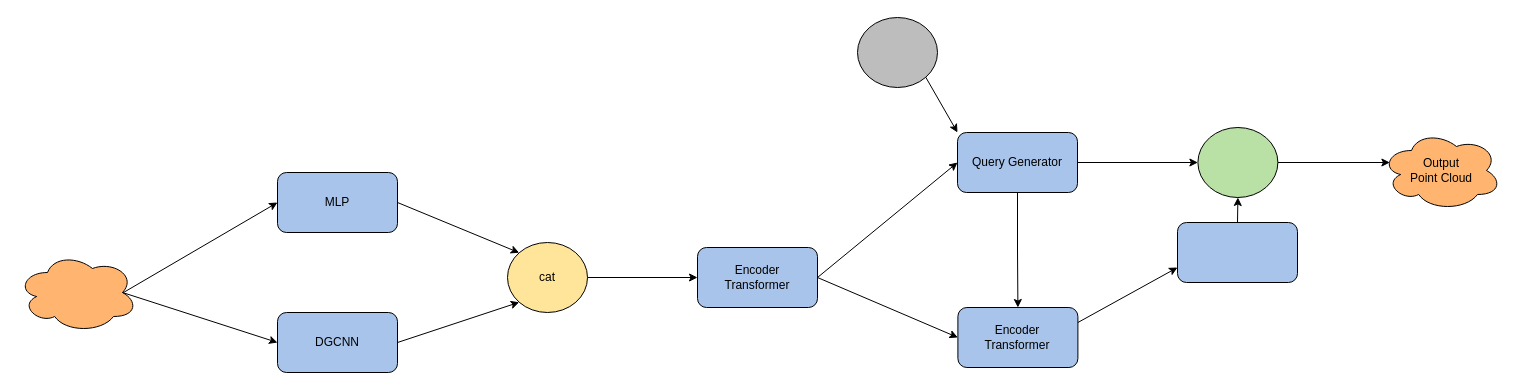
Image size: 1519x390. Some labels were removed from this diagram. Each missing label, with the box of its shape:
Folding Net: (1176, 222, 1298, 282)
Imput Point Cloud: (16, 252, 138, 332)
Masked tooth: (856, 16, 938, 88)
sum: (1197, 126, 1278, 198)
